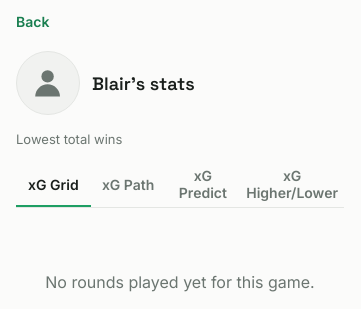
it: UserStatsScreen › REQ-411/REQ-1304: per-GameKey "wins" subtitle › selecting the xG Predict tab shows "Highest total wins", not "Lowest total wins"
The image size is (361, 309).
Expected: the text "No rounds played yet for this game." is shown, [45,272,315,292]
Click the tab "xG Predict". click: (203, 185)
box: [166,163,240,207]
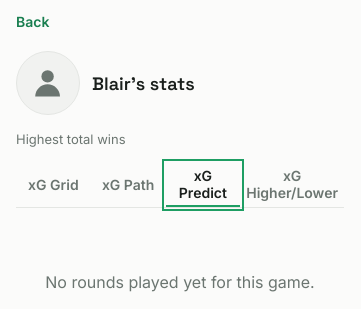
Expected: the text "Highest total wins" is shown, [16,131,126,147]
Expected: the text "Lowest total wins" is gone
